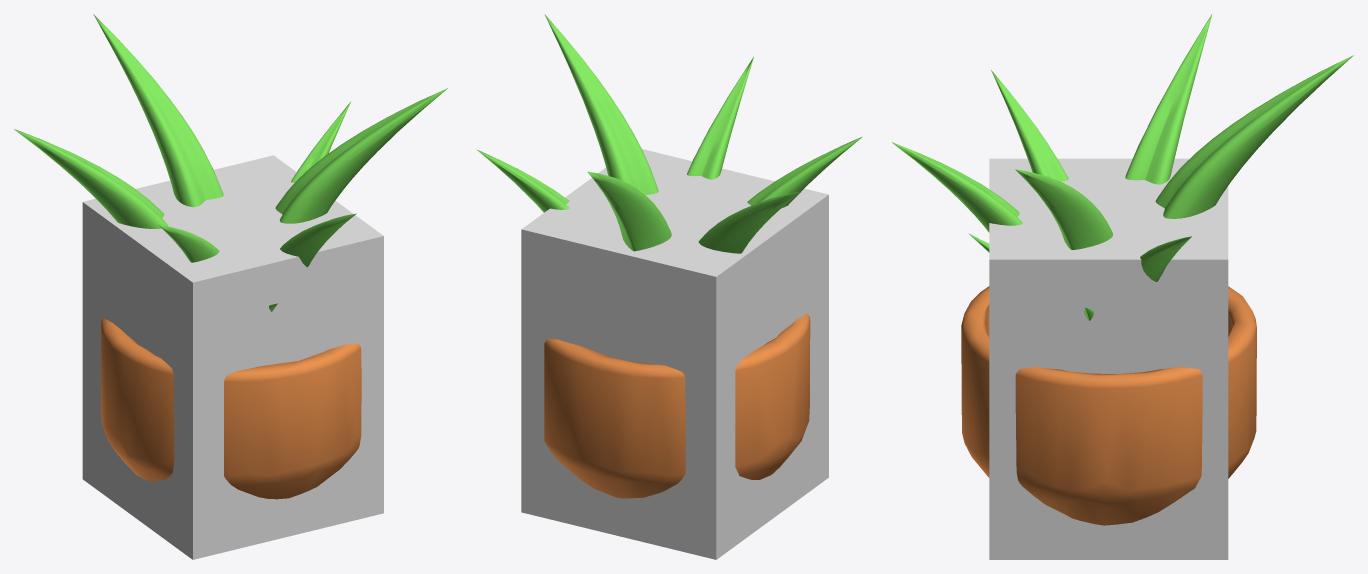
Rendered from plant.glb.
3 views of the same model, side by side, from view 1: azimuth 30°, elevation 25°; view 2: azimuth 150°, elevation 25°; view 3: azimuth 270°, elevation 25° (orthographic). The views are drawn at different scales.
Visible parts, largest first — view 1: BoundingBox, Plant; view 2: BoundingBox, Plant; view 3: BoundingBox, Plant.
Boxes of the visible parts, bbox=[...] form: BoundingBox: bbox=[82, 155, 383, 559]; Plant: bbox=[14, 14, 447, 499]; BoundingBox: bbox=[521, 149, 828, 559]; Plant: bbox=[476, 14, 862, 498]; BoundingBox: bbox=[989, 158, 1228, 559]; Plant: bbox=[892, 14, 1353, 525].
Bounding box in the file's own units: 1.03 × 1.17 × 1.11.
